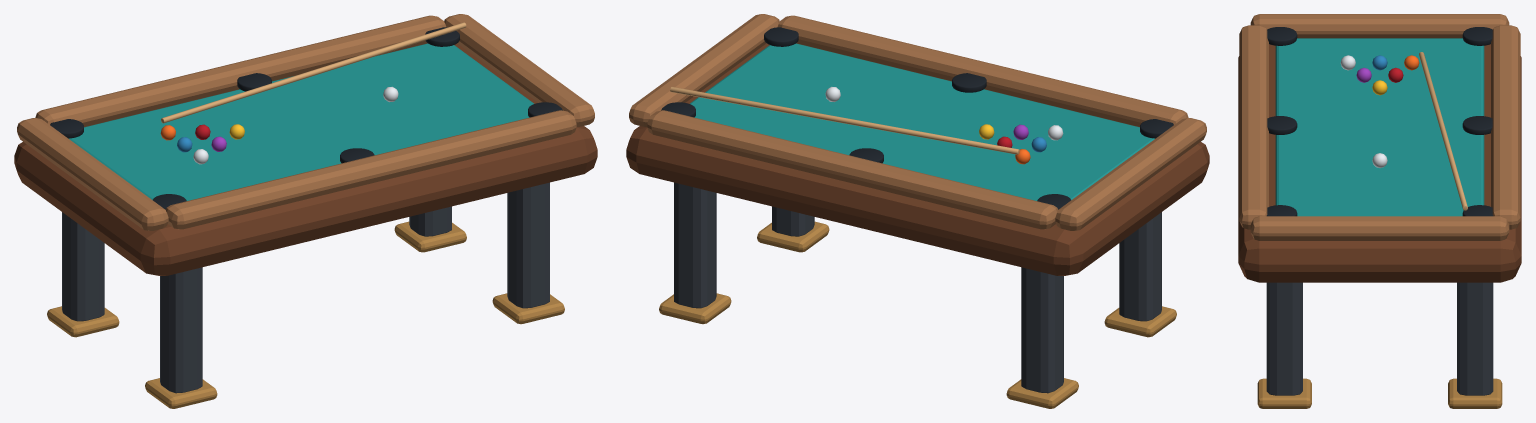
File: lounge-game-table.glb
The picture shows the model from 3 angles, left to right: view 1: azimuth 30°, elevation 25°; view 2: azimuth 150°, elevation 25°; view 3: azimuth 270°, elevation 25°; orthographic projection. The views are drawn at different scales.
Parts seen in each view (by area): view 1: gameTable · Recreation teal, gameTable · Warm oak, gameTable · Walnut, gameTable · Graphite metal, gameTable · Satin brass, gameTable · Soft black, gameTable · Natural oak; view 2: gameTable · Recreation teal, gameTable · Warm oak, gameTable · Walnut, gameTable · Graphite metal, gameTable · Satin brass, gameTable · Soft black, gameTable · Natural oak; view 3: gameTable · Recreation teal, gameTable · Warm oak, gameTable · Walnut, gameTable · Graphite metal, gameTable · Soft black, gameTable · Satin brass, gameTable · Natural oak, gameTable · Warm white.
Part boxes in pixels (<box>): gameTable · Recreation teal: <box>69,43,533,200</box>; gameTable · Warm oak: <box>17,14,594,230</box>; gameTable · Walnut: <box>14,43,597,275</box>; gameTable · Graphite metal: <box>62,182,549,393</box>; gameTable · Satin brass: <box>47,221,564,408</box>; gameTable · Soft black: <box>50,27,562,209</box>; gameTable · Natural oak: <box>161,22,466,123</box>; gameTable · Recreation teal: <box>690,43,1154,200</box>; gameTable · Warm oak: <box>629,14,1206,230</box>; gameTable · Walnut: <box>626,43,1209,275</box>; gameTable · Graphite metal: <box>674,182,1161,393</box>; gameTable · Satin brass: <box>659,221,1176,408</box>; gameTable · Soft black: <box>661,27,1173,209</box>; gameTable · Natural oak: <box>670,86,1019,154</box>; gameTable · Recreation teal: <box>1275,38,1484,216</box>; gameTable · Warm oak: <box>1239,14,1520,240</box>; gameTable · Walnut: <box>1238,44,1521,282</box>; gameTable · Graphite metal: <box>1266,282,1493,395</box>; gameTable · Soft black: <box>1266,27,1493,216</box>; gameTable · Satin brass: <box>1257,378,1502,408</box>; gameTable · Natural oak: <box>1419,52,1467,210</box>; gameTable · Warm white: <box>1340,55,1387,167</box>.
Size of the model in its own units: 2.25 by 1.01 by 1.25.
